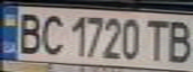0: (121, 15, 145, 61)
1: (66, 11, 87, 57)
2: (103, 14, 124, 61)
7: (84, 12, 106, 59)
B: (12, 9, 45, 55), (163, 17, 193, 64)
C: (36, 11, 66, 55)
T: (142, 16, 169, 63)
